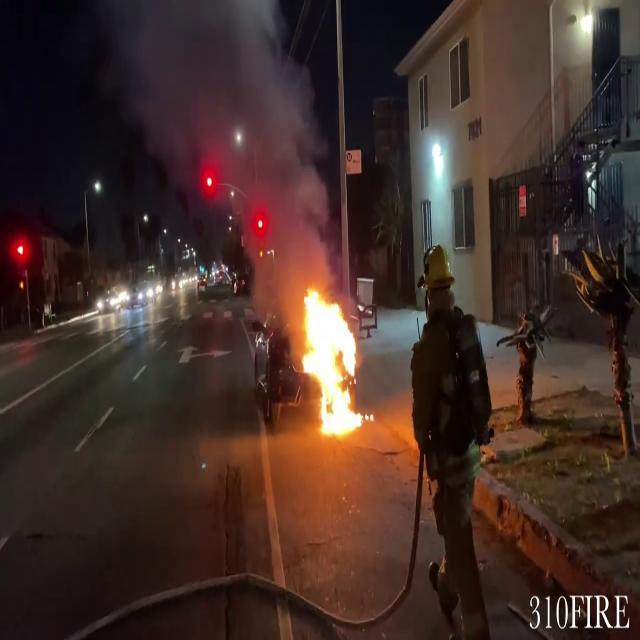Fire: (296, 279, 364, 436)
Smoke: (126, 1, 334, 302)
